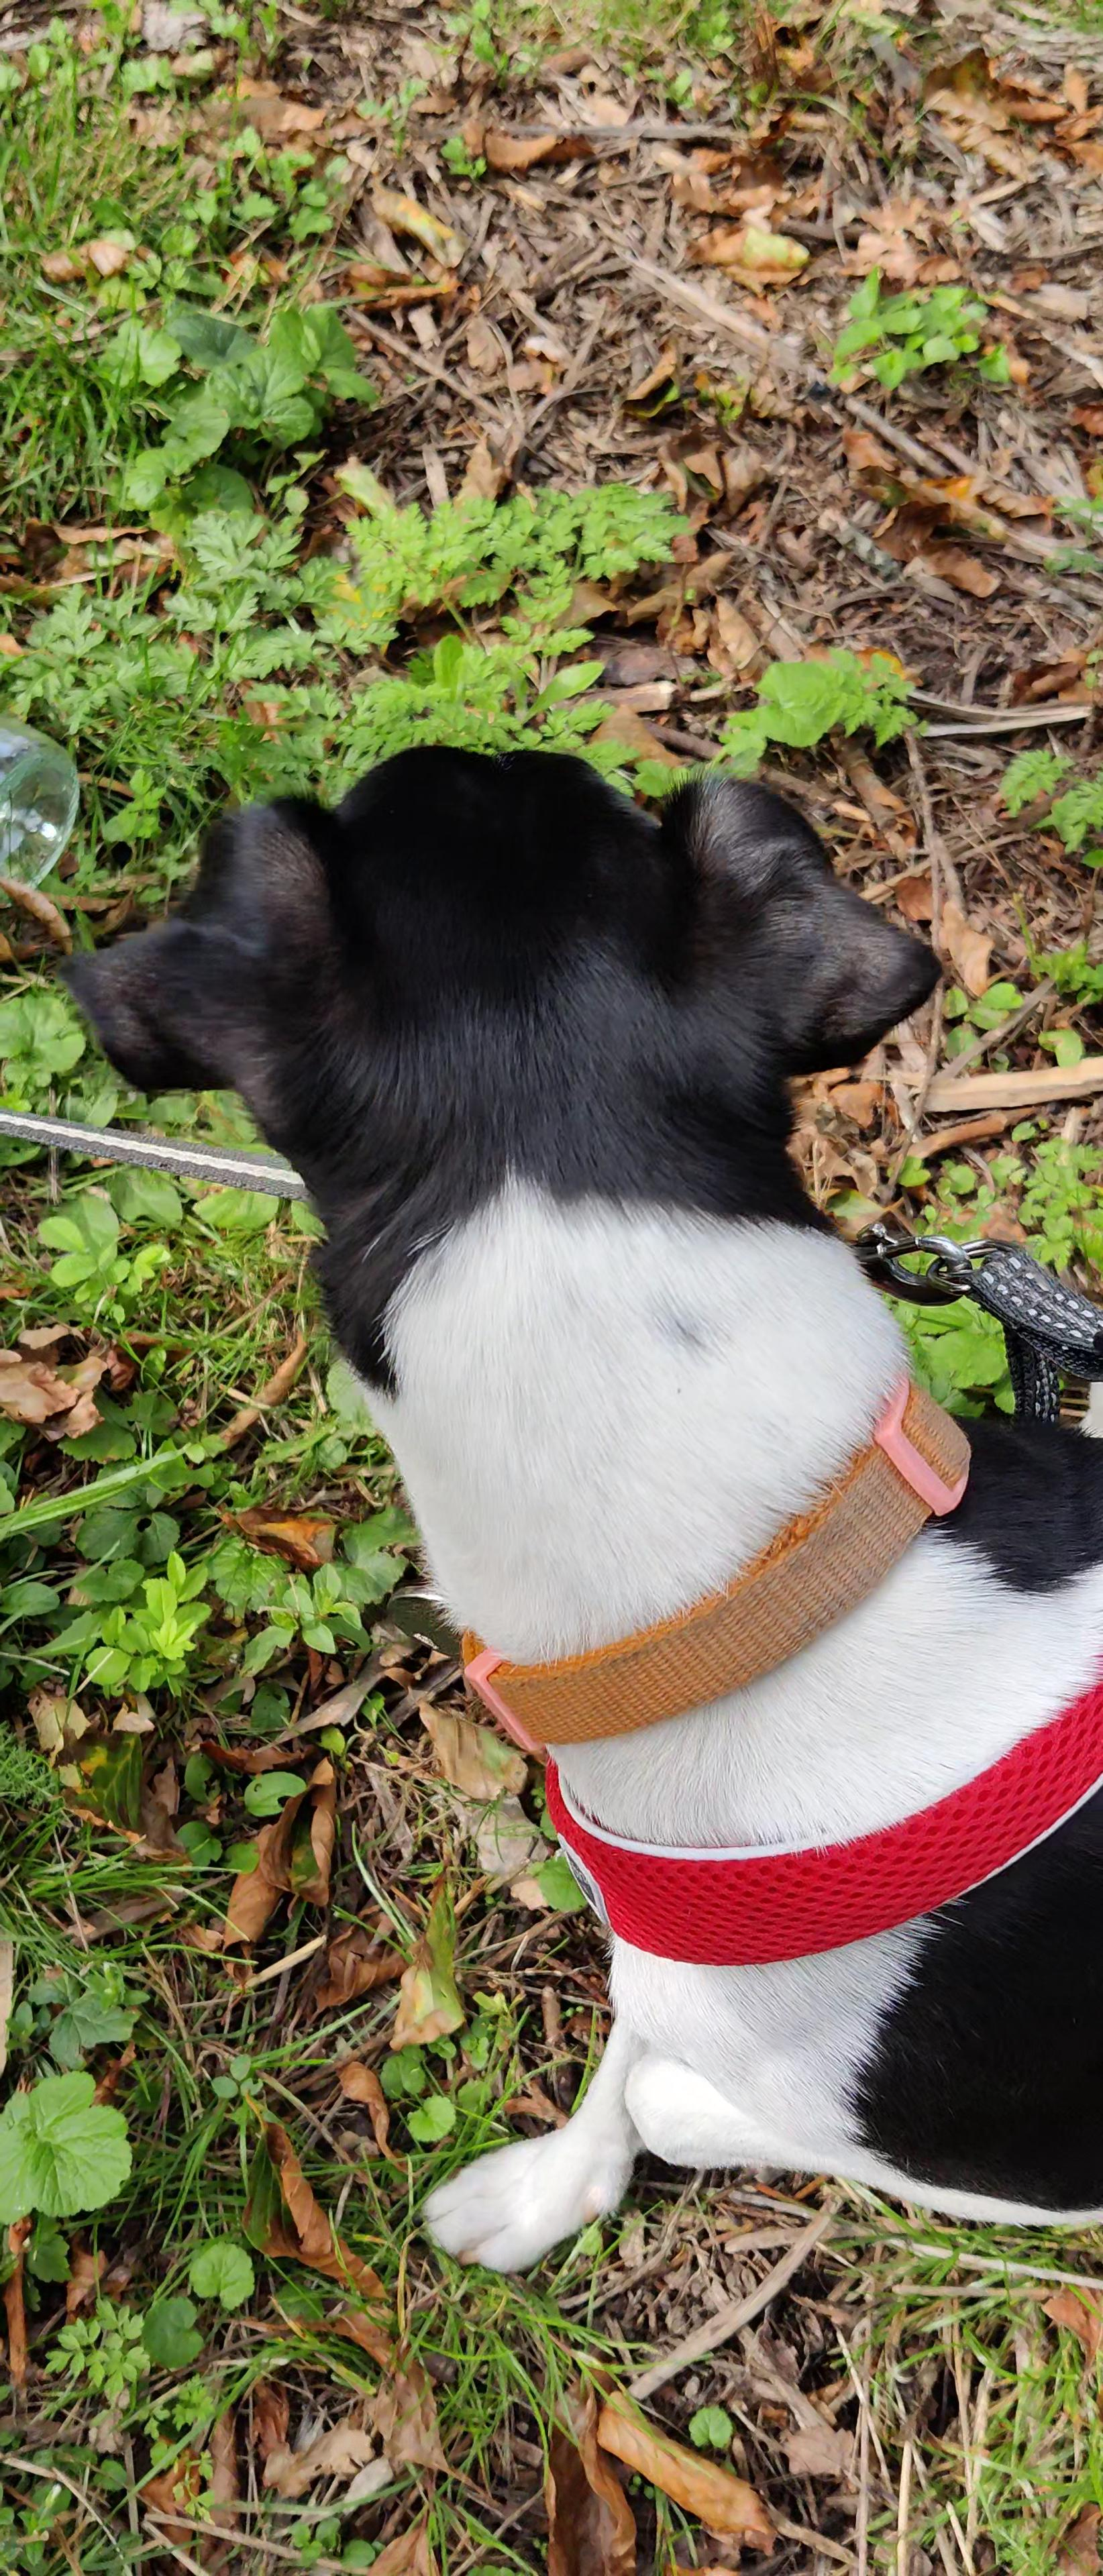Dog: (51, 708, 1103, 2288)
